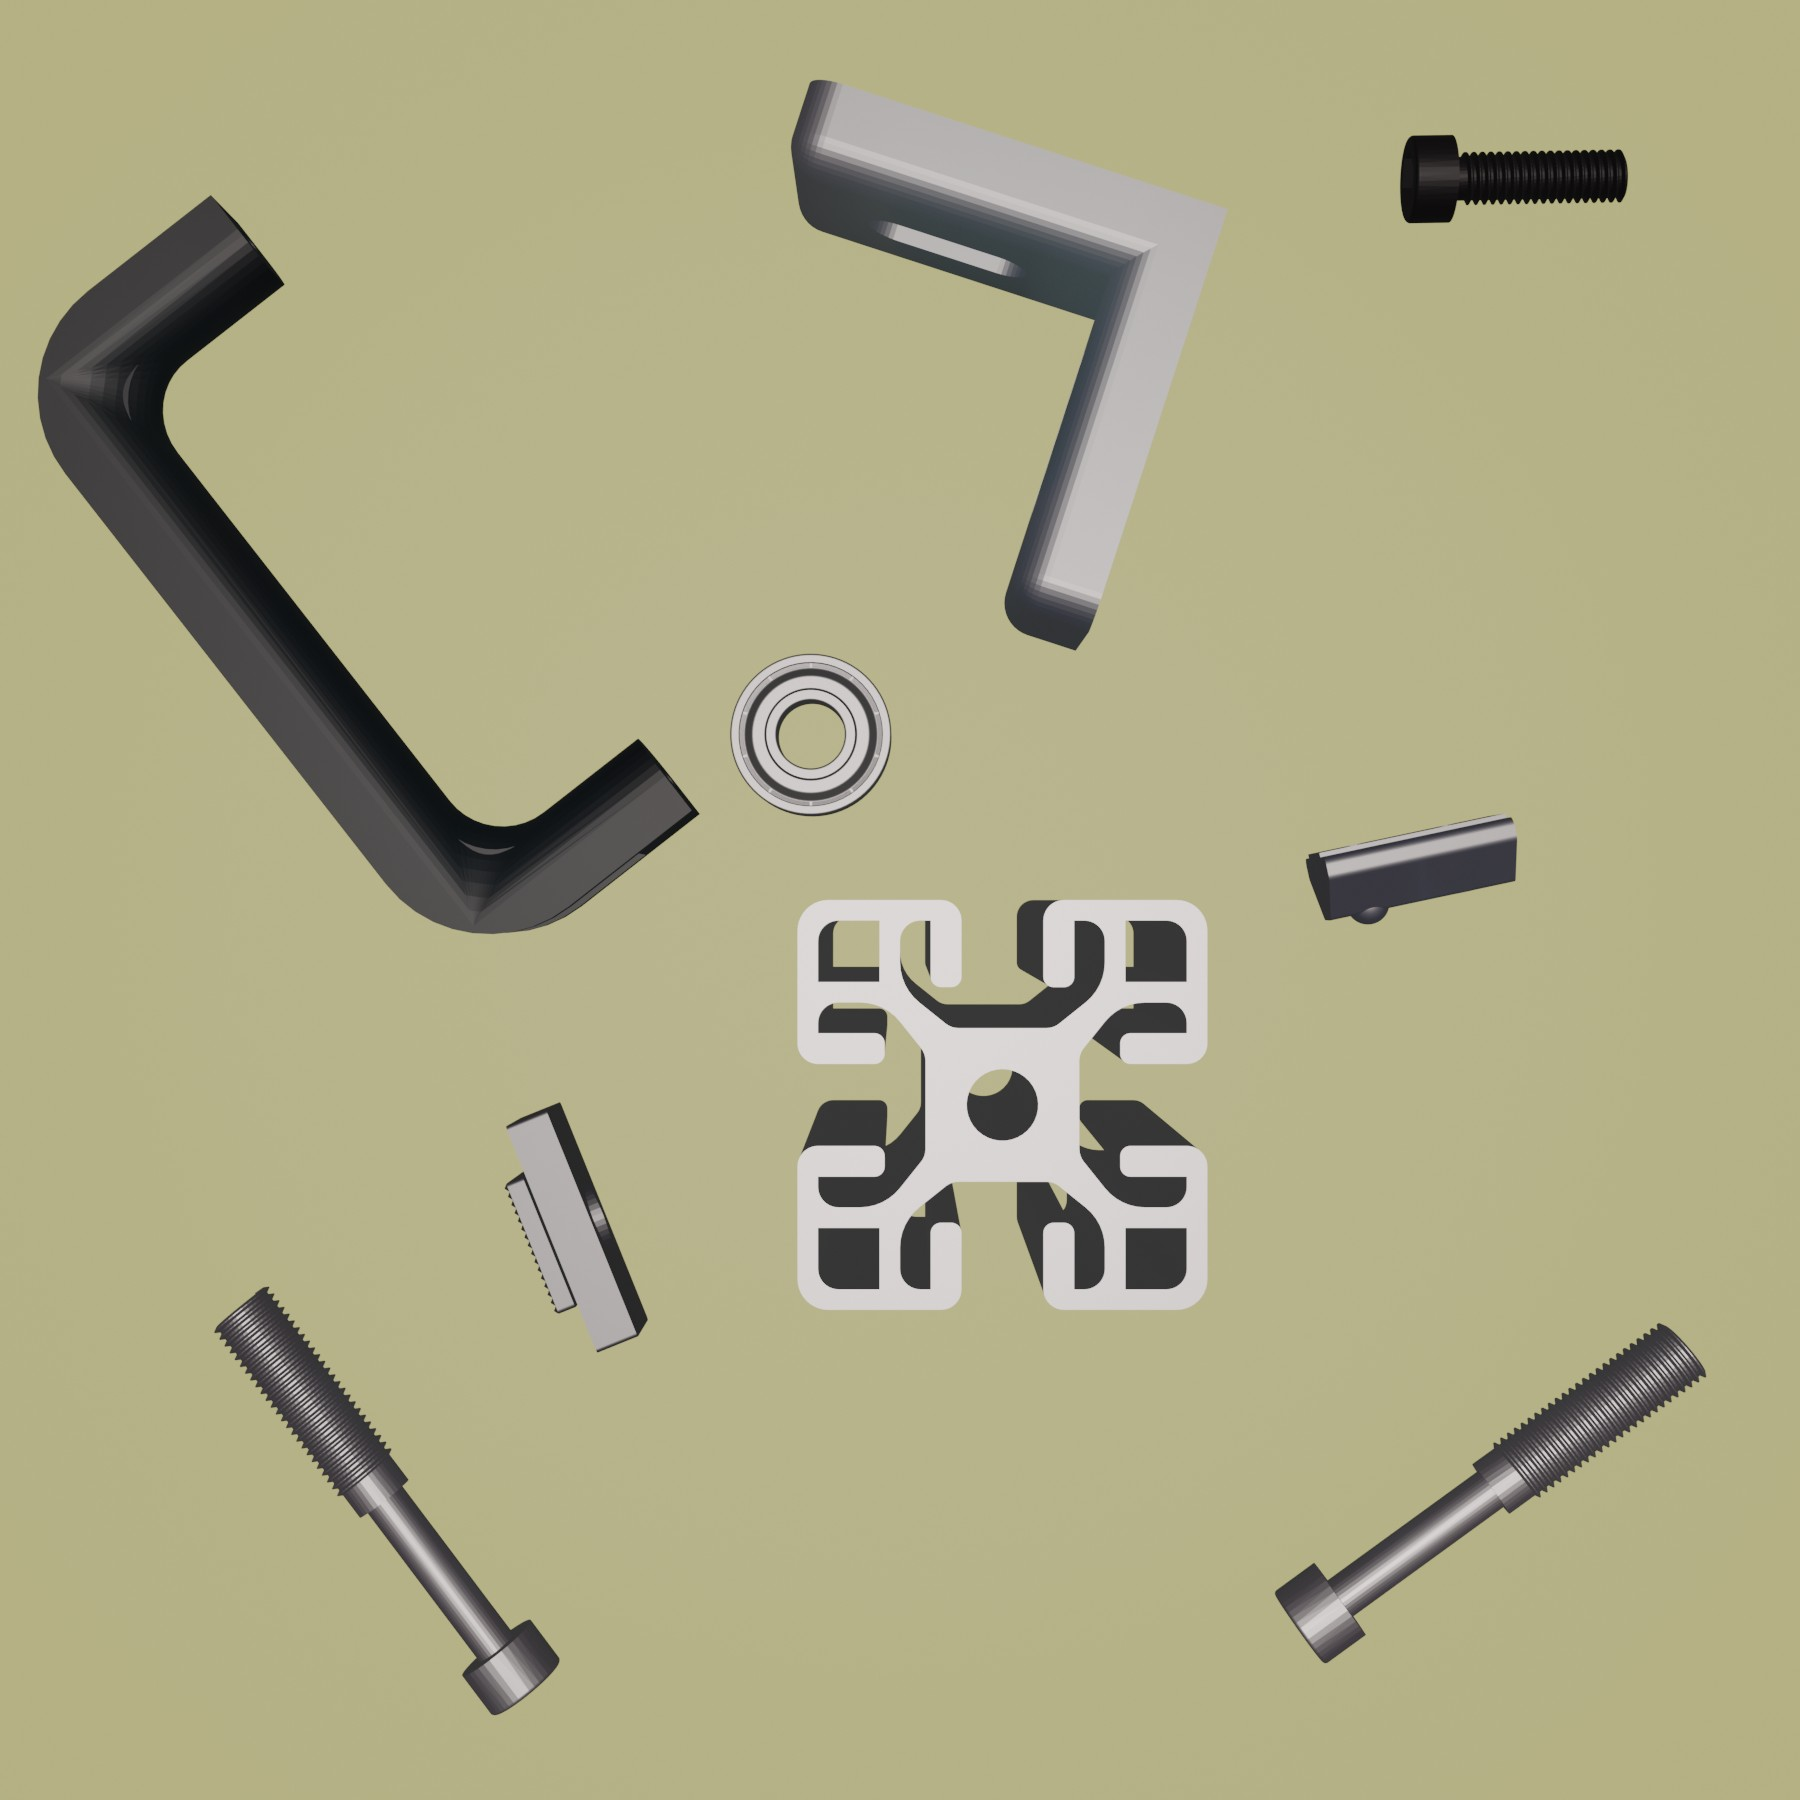Aluminium Extension: (791, 892, 1212, 1315)
Ball Bearing: (729, 649, 897, 823)
Multiwinkel: (786, 76, 1235, 654)
Pull Handle: (36, 191, 702, 938)
Shoulder Socket Head Cap Screw: (209, 1281, 562, 1719), (1274, 1320, 1711, 1665)
Socket Head Cap Screw: (1398, 130, 1632, 227)
T Nut Square: (498, 1099, 653, 1358)
T Spring Nut: (1304, 813, 1520, 926)
